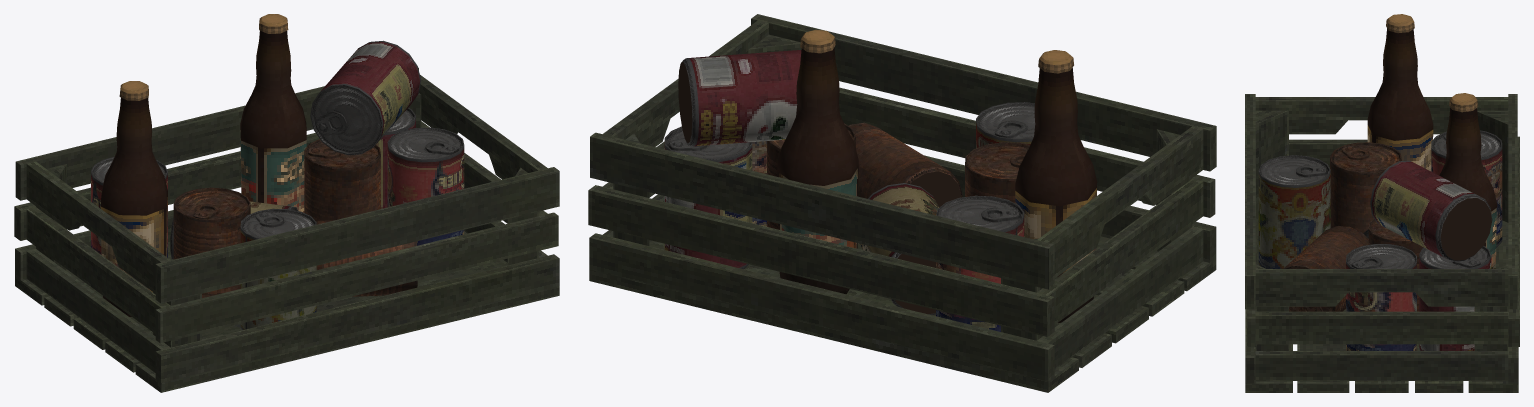
The model's file is supply_crate_1_3.glb.
3 renders of one model, left to right at view 1: azimuth 30°, elevation 25°; view 2: azimuth 150°, elevation 25°; view 3: azimuth 270°, elevation 25°, orthographic. The views are drawn at different scales.
Parts seen in each view (by area): view 1: supply_crate_1_3; view 2: supply_crate_1_3; view 3: supply_crate_1_3.
Part boxes in pixels (box(x1,y1,x2,y2)): supply_crate_1_3: box(14, 14, 559, 392); supply_crate_1_3: box(588, 14, 1216, 392); supply_crate_1_3: box(1245, 14, 1519, 392).
Size of the model in its own units: 0.668 by 0.3725 by 0.4262.
Materials: 3 (3 with a texture image).
